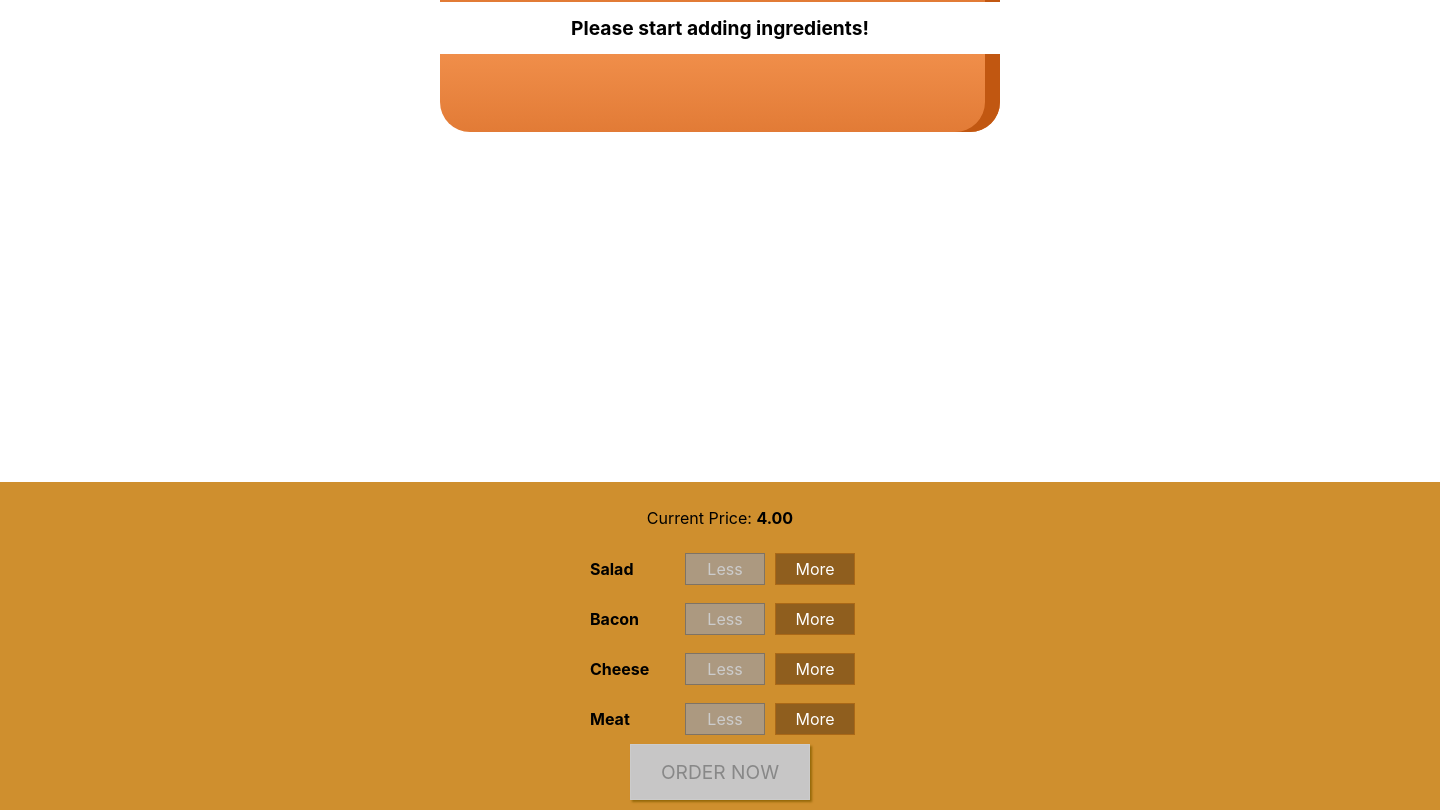
Test case: append burger ingredient
The width and height of the screenshot is (1440, 810).
(page scrolled)
Click the button with test id "more-button-meat" at (815, 719), box [775,703,855,735]
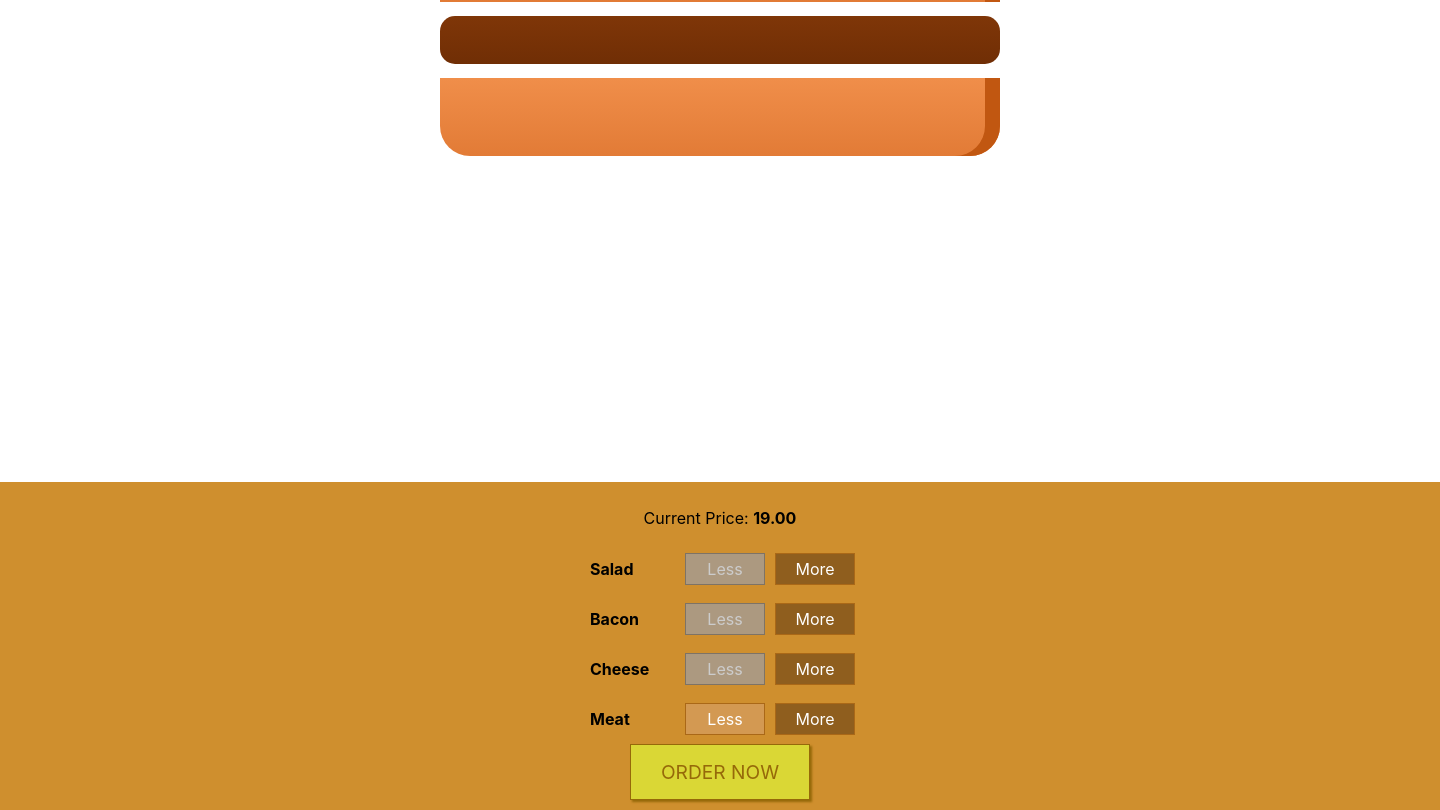
Click the button with test id "more-button-meat" at (815, 719), box [775,703,855,735]
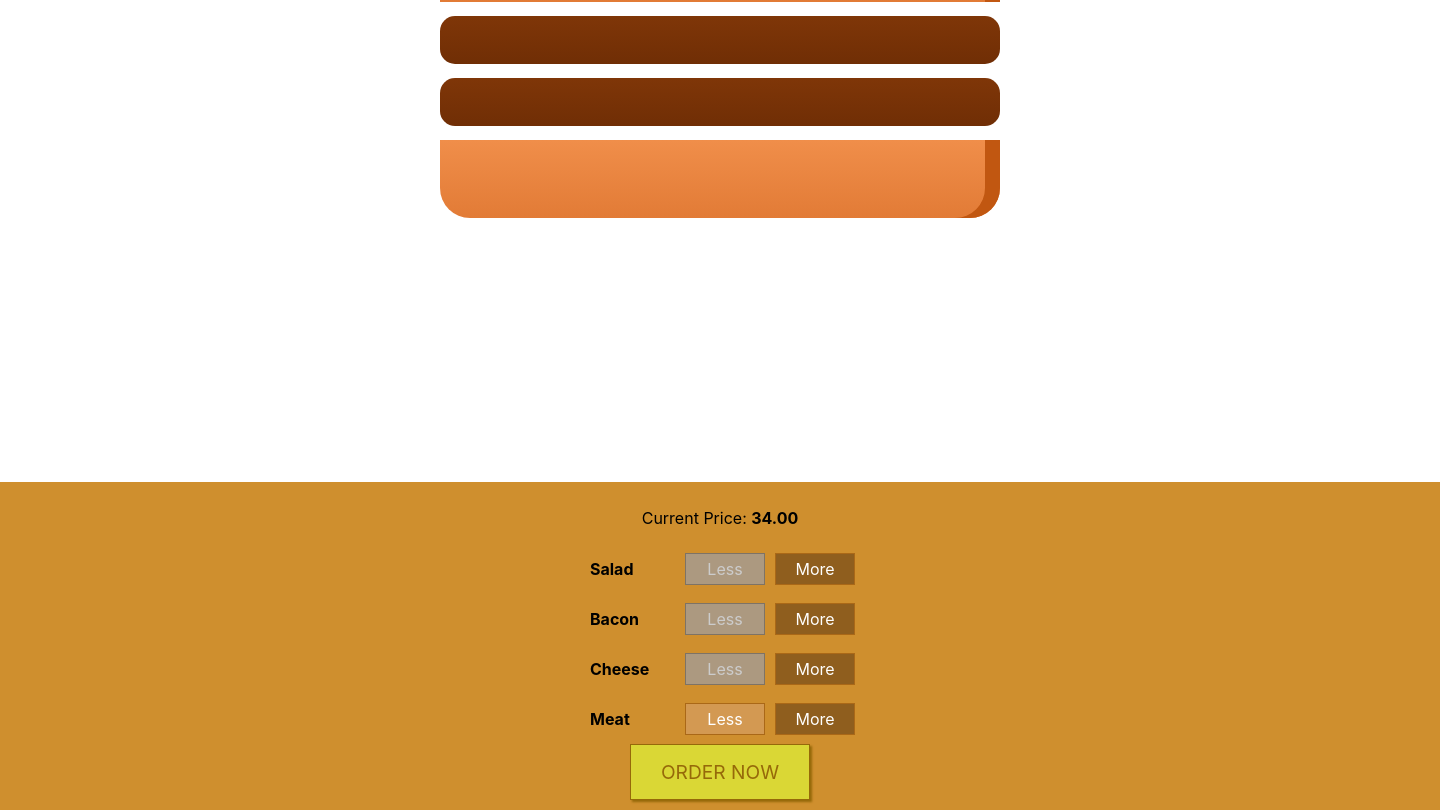
Expected: the number of elements with test id "ingredient-meat" is 2, [440,16,1000,64]; [440,78,1000,126]
